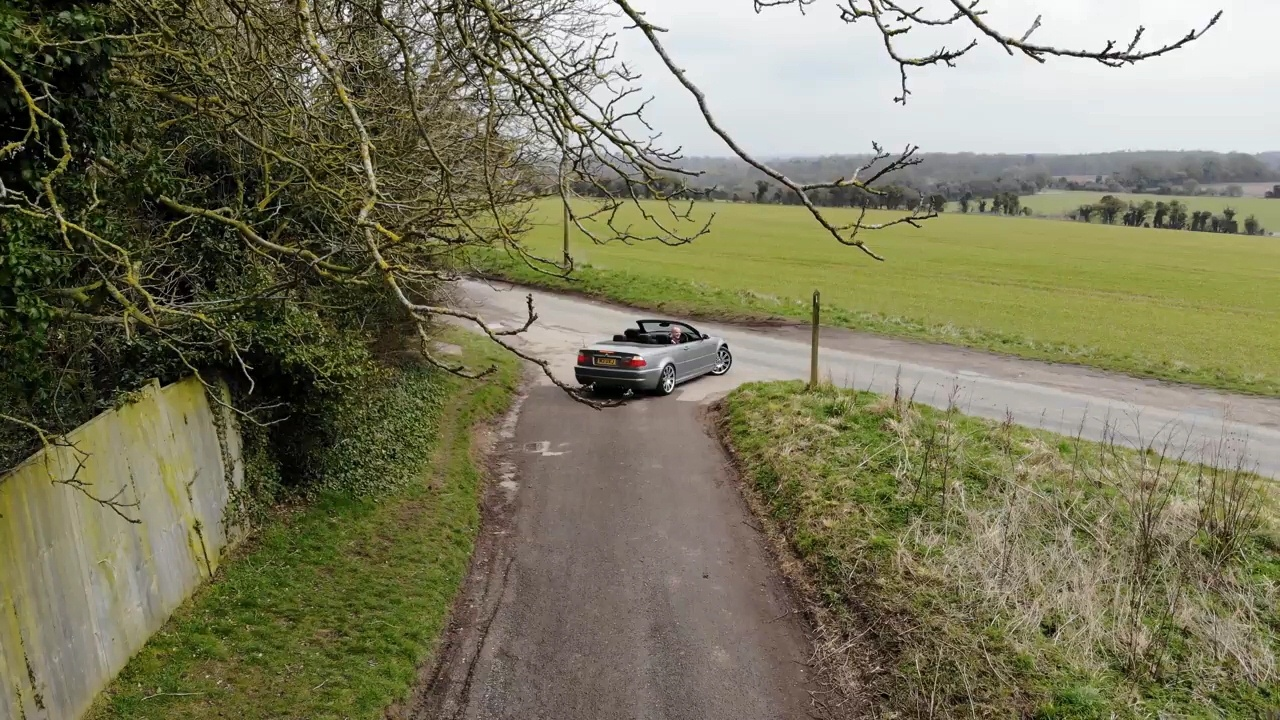araba: (573, 318, 733, 402)
